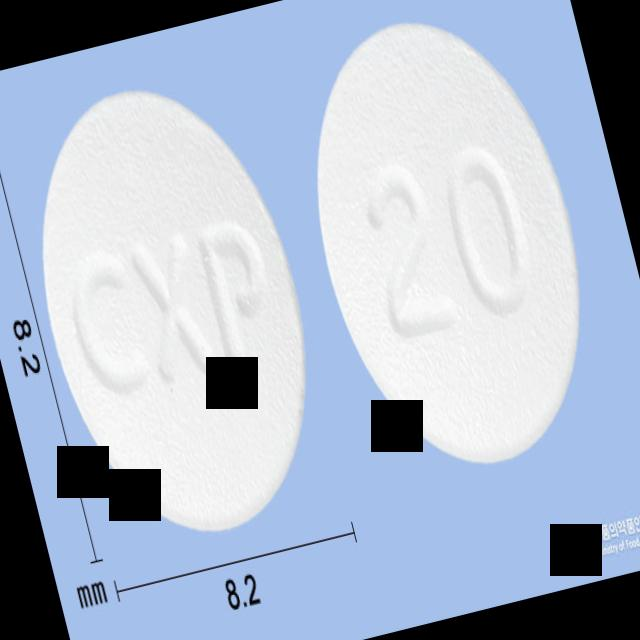Levotwo: (0, 57, 349, 560), (274, 0, 622, 490)
